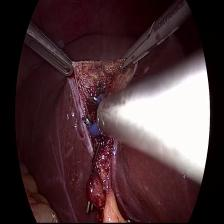Bipolar: (82, 90, 113, 142)
Grasper: (116, 7, 174, 76), (20, 22, 76, 82)
